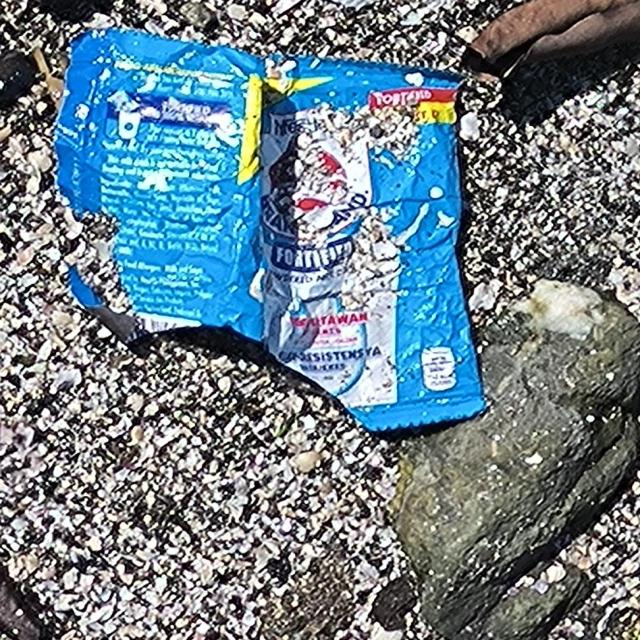plastic_waste: (53, 25, 492, 433)
